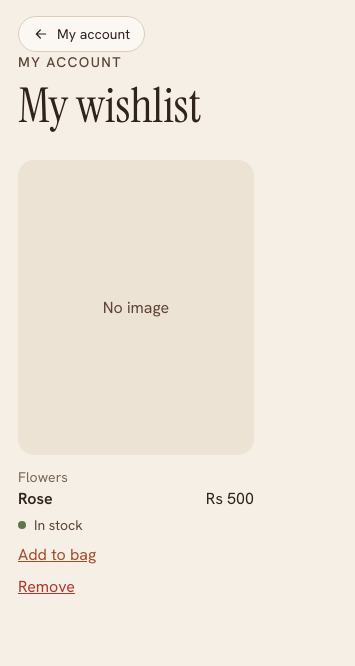
Test case: keeps the item and shows an error when removal fails
This screenshot has width=355, height=666.
Click the button with aria-label "Remove Rose from wishlist" at (136, 587), box [18,575,254,599]
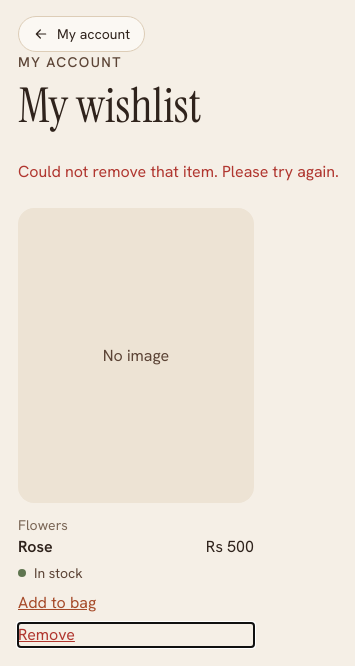
Expected: the heading "Rose" is shown, [18,535,53,559]
Result: the message shows "Could not remove" at [18,161,339,182]
